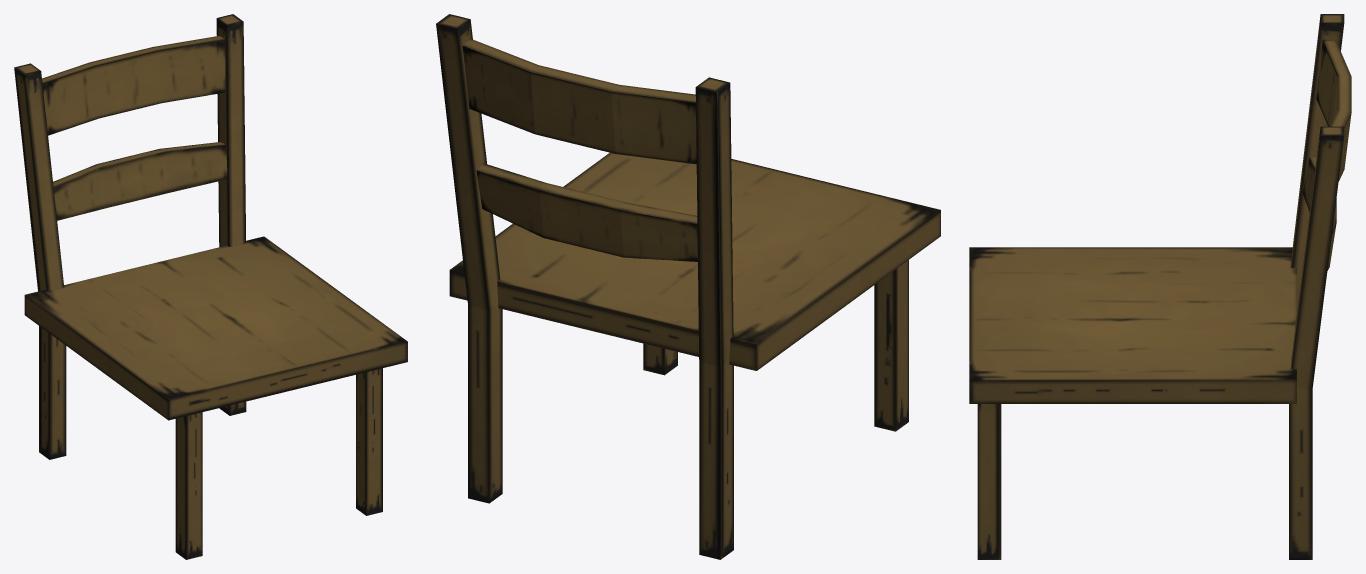
The model's file is Chair_1.fbx.
3 renders of one model, left to right at view 1: azimuth 30°, elevation 25°; view 2: azimuth 150°, elevation 25°; view 3: azimuth 270°, elevation 25°, orthographic. The views are drawn at different scales.
Parts seen in each view (by area): view 1: Chair_2; view 2: Chair_2; view 3: Chair_2.
Part boxes in pixels (left/top/right/bottom): Chair_2: left=14, top=14, right=407, bottom=559; Chair_2: left=436, top=14, right=940, bottom=559; Chair_2: left=969, top=14, right=1351, bottom=559.
Size of the model in its own units: 54.93 by 82.78 by 66.67.
